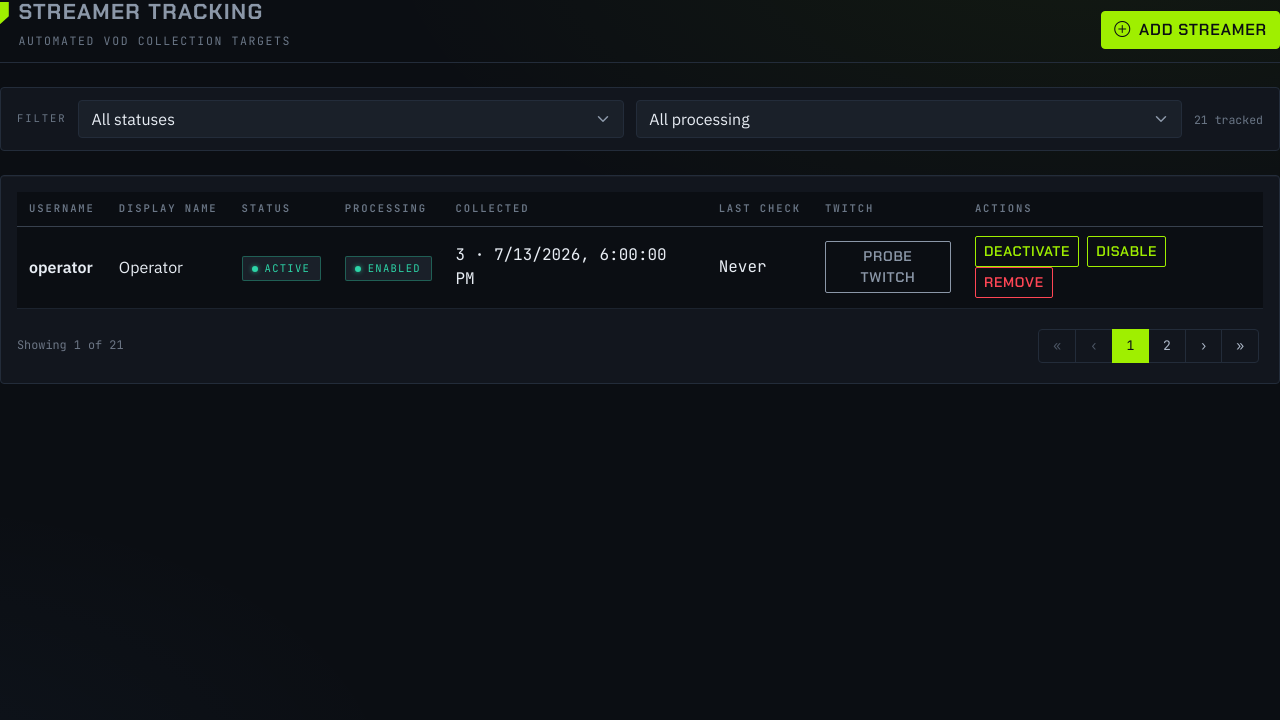
Test case: StreamerTracking pagination › keeps the current page and removal target when deletion fails
What coordinates should you click on to do the following:
click the button named "Go to page 2"
I would click on:
 (1167, 346)
Its box is [1148,329,1186,363].
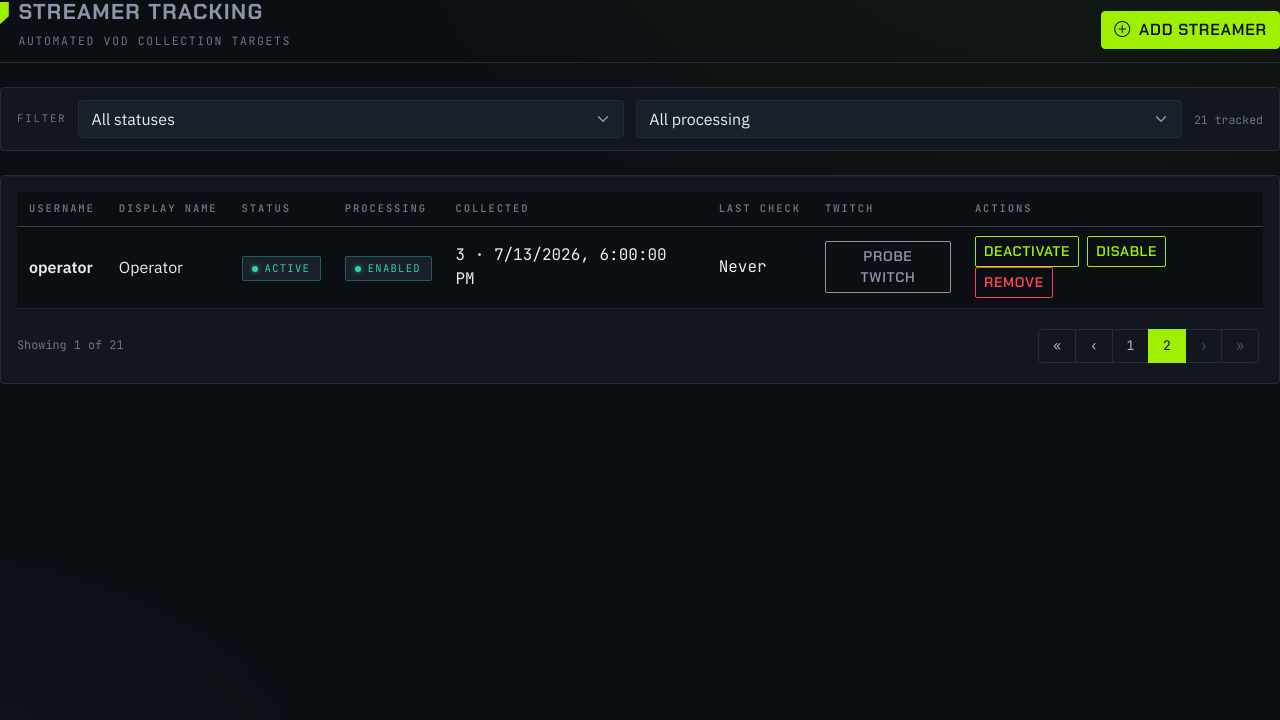
What coordinates should you click on to do the following:
click the button "Remove"
I would click on:
 (1014, 283)
Its box is [975,267,1053,298].
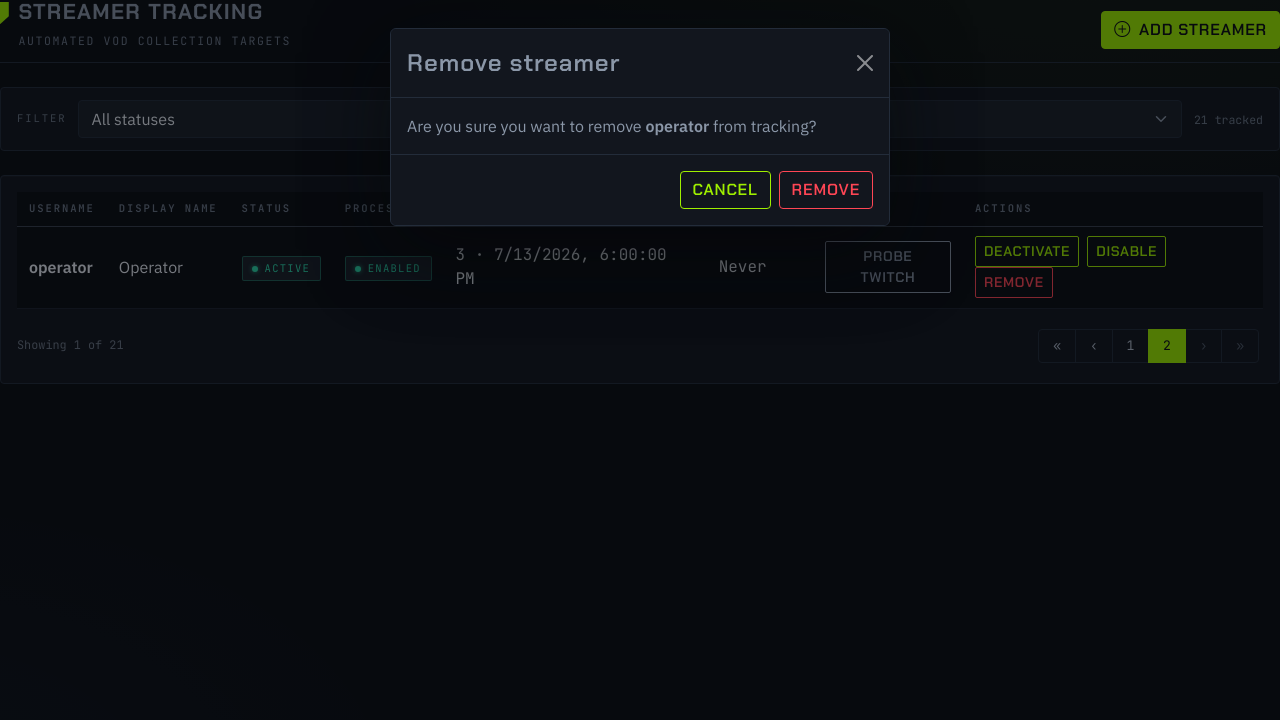
What coordinates should you click on to do the following:
click the button "Remove"
I would click on:
 (826, 190)
Its box is [779,171,873,209].
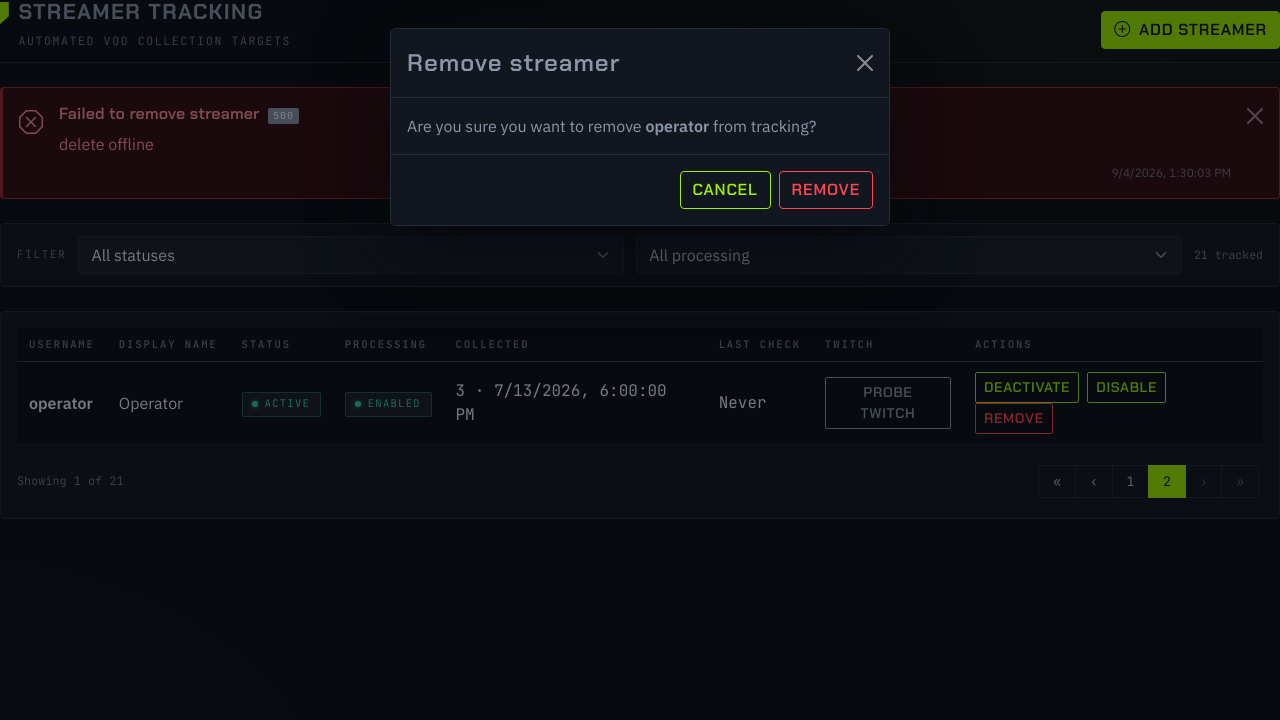
Expected: the dialog is shown, [390,28,890,226]
Expected: the text "delete offline" is shown, [59,134,154,154]
